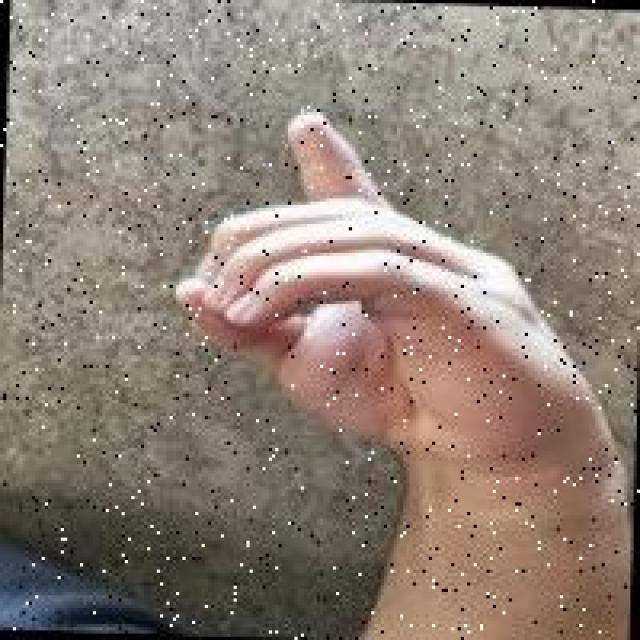D: (162, 94, 600, 501)
